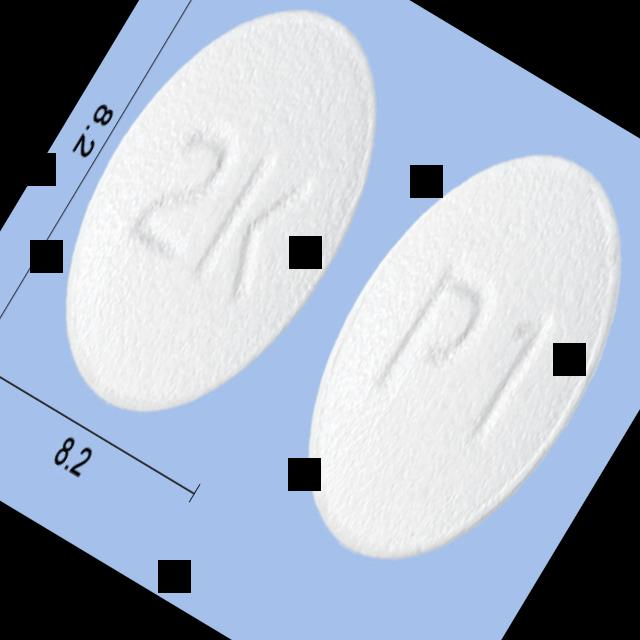Letroxin: (0, 0, 443, 469), (242, 106, 640, 614)
